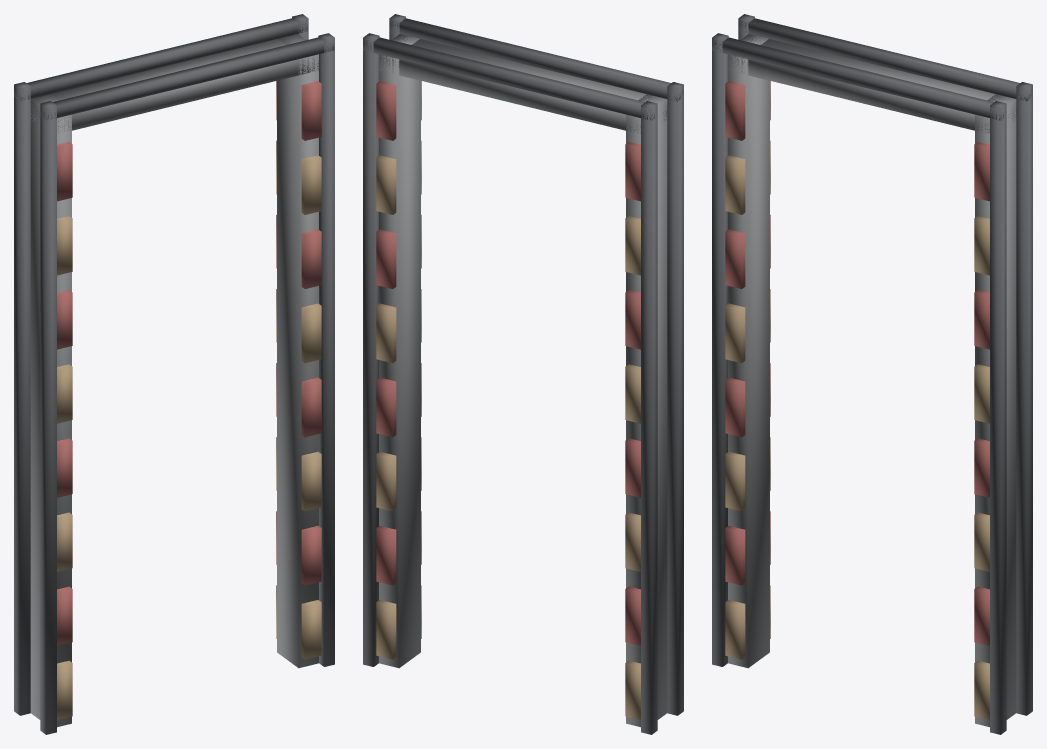
Rendered from doorway_brick_return_w96_h240_d16.glb.
3 renders of one model, left to right at view 1: azimuth 30°, elevation 25°; view 2: azimuth 150°, elevation 25°; view 3: azimuth 330°, elevation 25°, orthographic.
Parts seen in each view (by area): view 1: world; view 2: world; view 3: world.
Part boxes in pixels (left/top/right/bottom): world: left=14, top=14, right=334, bottom=734; world: left=363, top=14, right=683, bottom=734; world: left=712, top=14, right=1032, bottom=734.
Bounding box in the file's own units: 1.22 × 2.54 × 0.2365.
